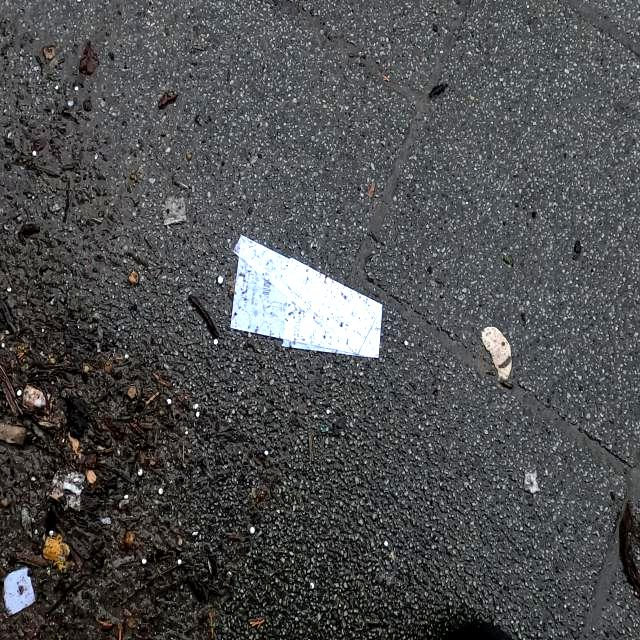Paper: (226, 231, 384, 361)
